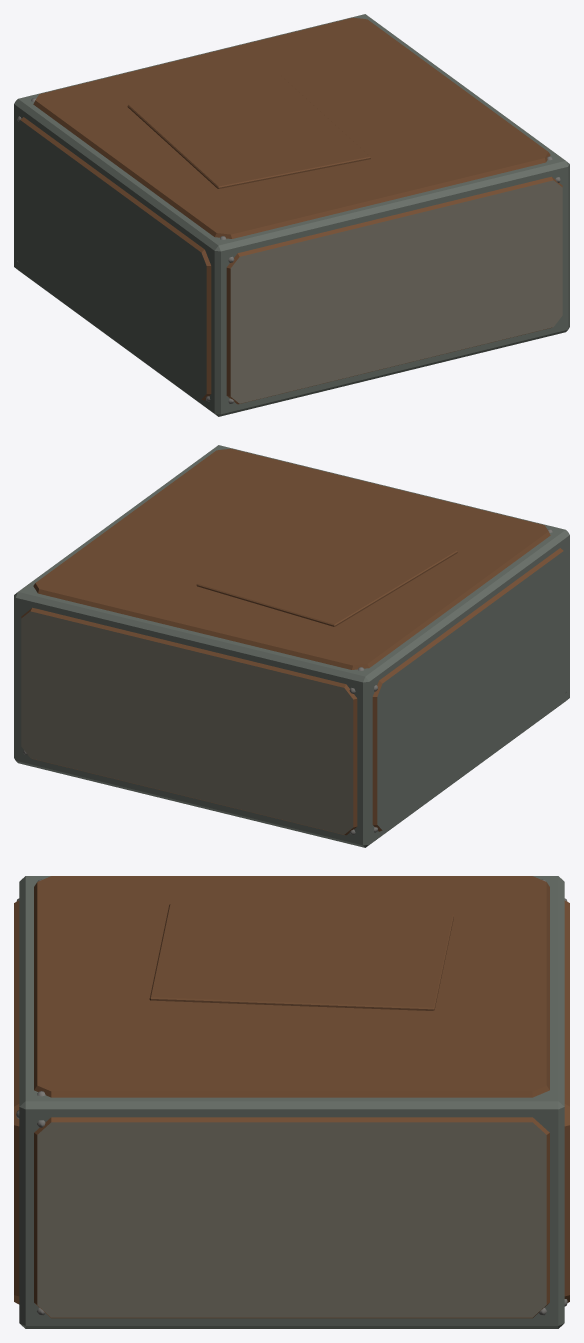
The model's file is R4B_HalfBlock.fbx.
3 renders of one model, top to bottom at view 1: azimuth 30°, elevation 25°; view 2: azimuth 150°, elevation 25°; view 3: azimuth 270°, elevation 25°, orthographic. The views are drawn at different scales.
Parts seen in each view (by area): view 1: R4B_HalfBlock; view 2: R4B_HalfBlock; view 3: R4B_HalfBlock.
Boxes of the visible parts, left/top/right/bottom form: R4B_HalfBlock: left=14, top=14, right=569, bottom=416; R4B_HalfBlock: left=14, top=445, right=569, bottom=847; R4B_HalfBlock: left=14, top=876, right=569, bottom=1328.
Bounding box in the file's own units: 0.52 × 0.248 × 0.52.
